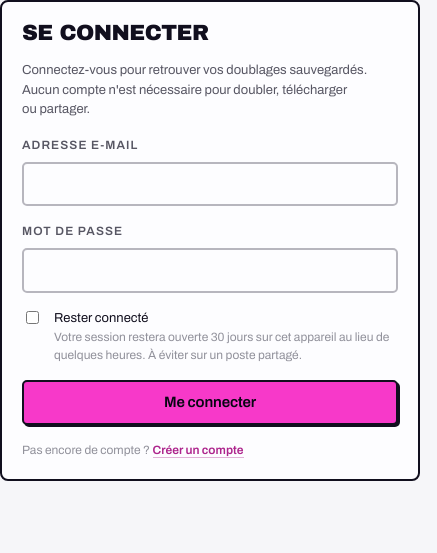
Test: LoginForm › affiche un message global sur 429
The width and height of the screenshot is (437, 553).
Type "alice@example.com" into the field labelled "Adresse e-mail". click: (210, 184)
box: [36, 164, 384, 204]
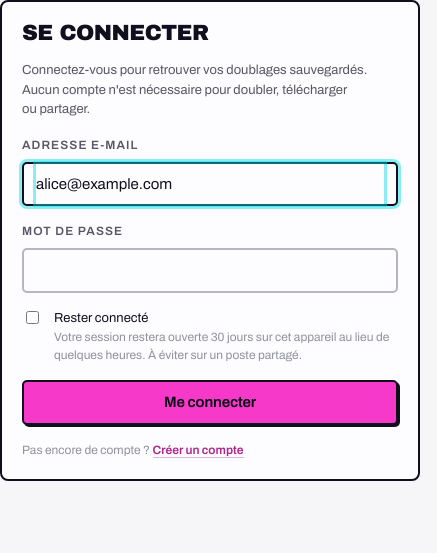
Type "Corr3ct-horse-battery" into the password field labelled "Mot de passe". click: (210, 270)
box: [22, 248, 398, 293]
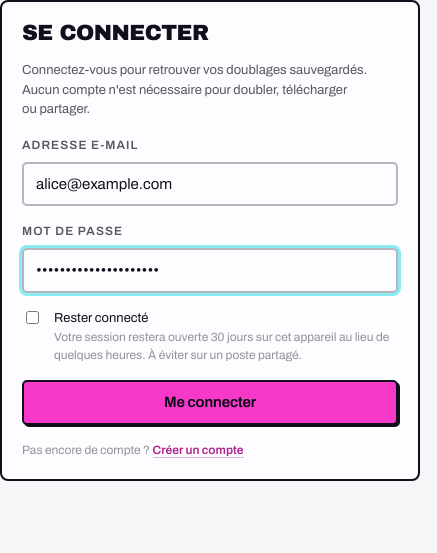
Click the button "Me connecter". click: click(210, 402)
box: [22, 380, 398, 425]
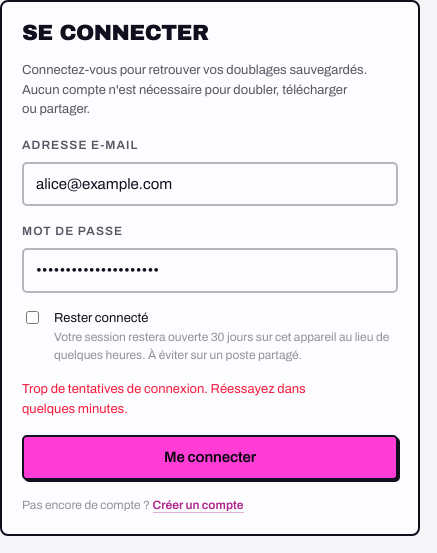
Result: the message shows "Trop de tentatives" at [22, 382, 306, 416]
